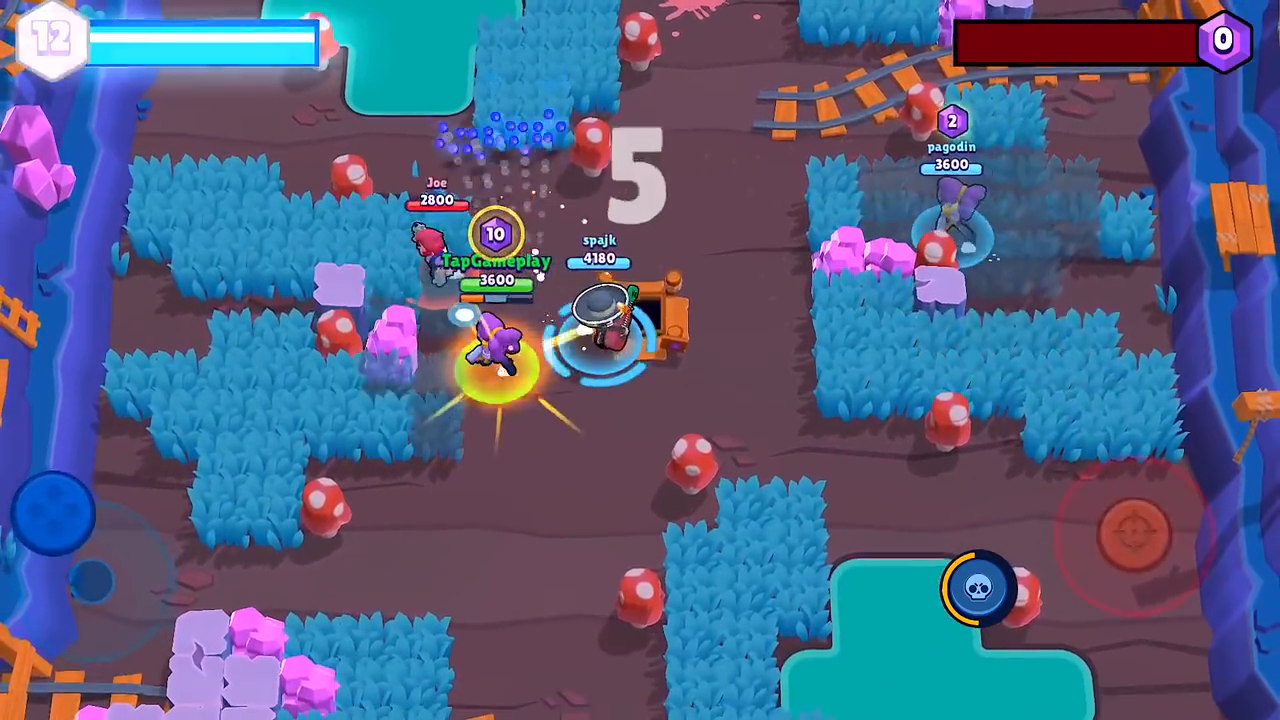move_stick: (19, 477, 95, 535)
red: (395, 182, 492, 323)
